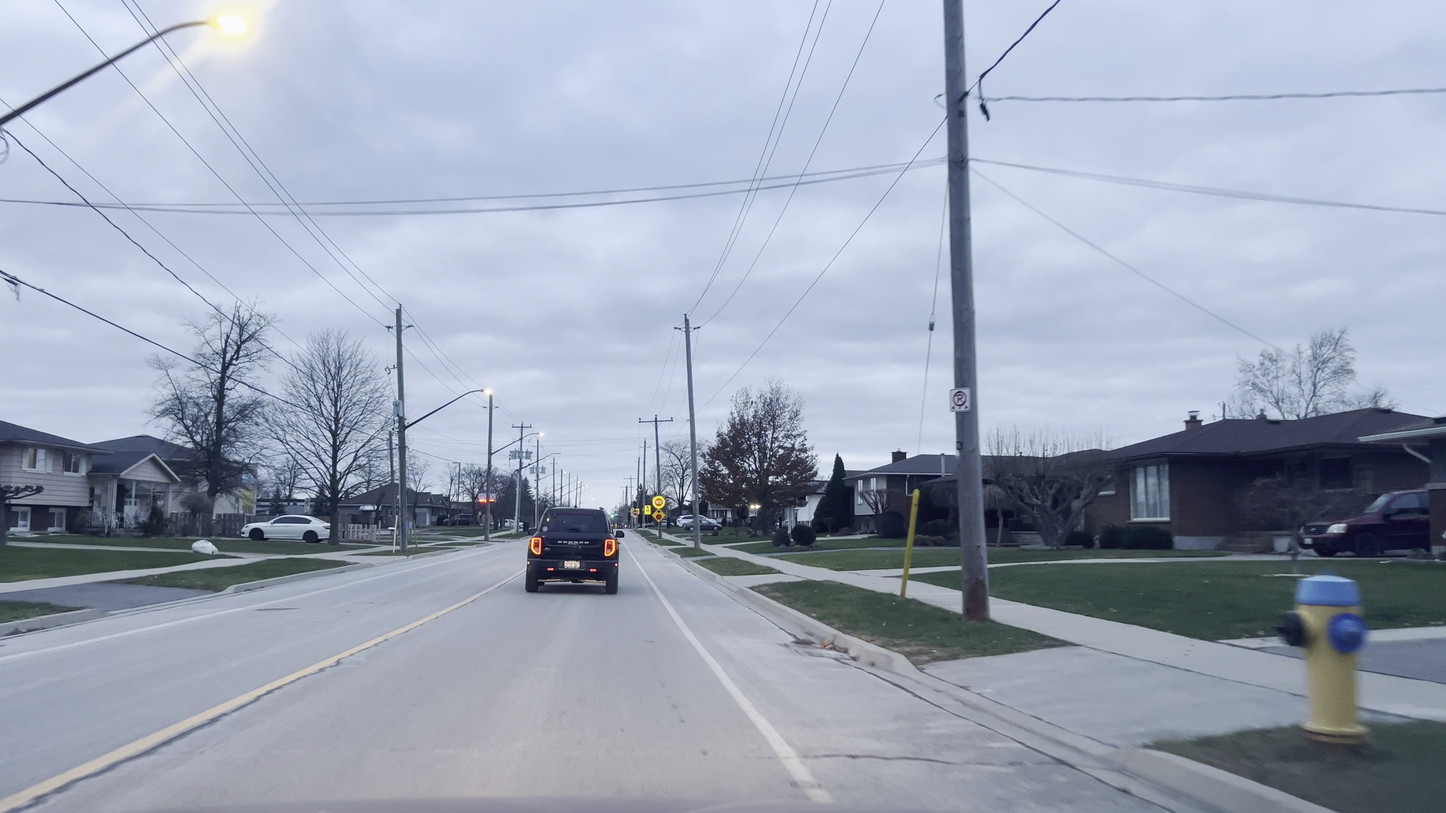cracks: (795, 731, 990, 779)
pothole: (756, 625, 890, 680)
